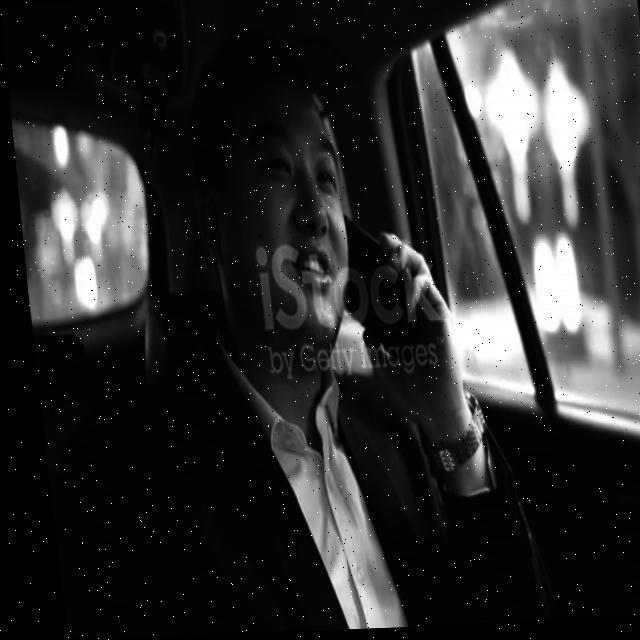PhoneCall: (332, 216, 412, 366)
